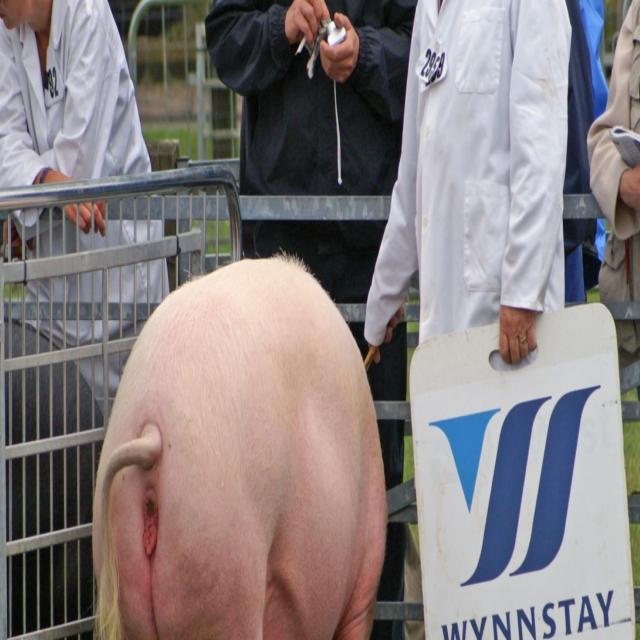pig: (89, 257, 389, 640)
